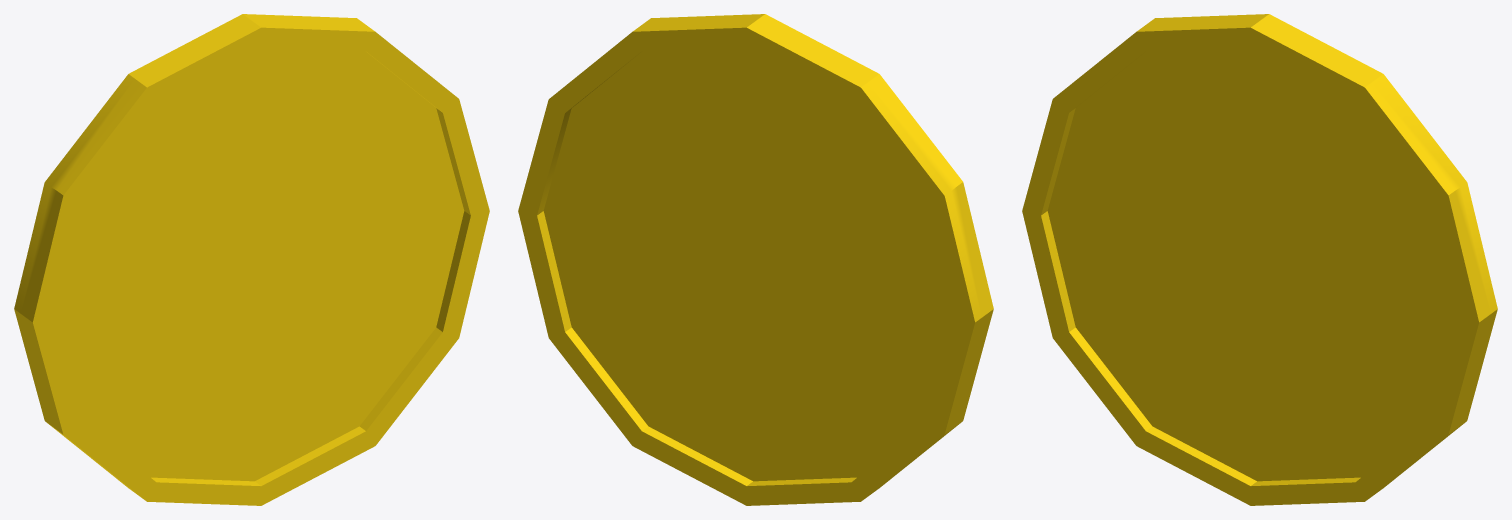
File: Coin textured.fbx
3 renders of one model, left to right at view 1: azimuth 30°, elevation 25°; view 2: azimuth 150°, elevation 25°; view 3: azimuth 330°, elevation 25°, orthographic.
Visible parts, largest first — view 1: Coin; view 2: Coin; view 3: Coin.
Part boxes in pixels (x1,y1,x2,y2): Coin: (14,14,489,505); Coin: (518,14,993,505); Coin: (1022,14,1497,505).
Size of the model in its own units: 2 by 2 by 0.1414.
